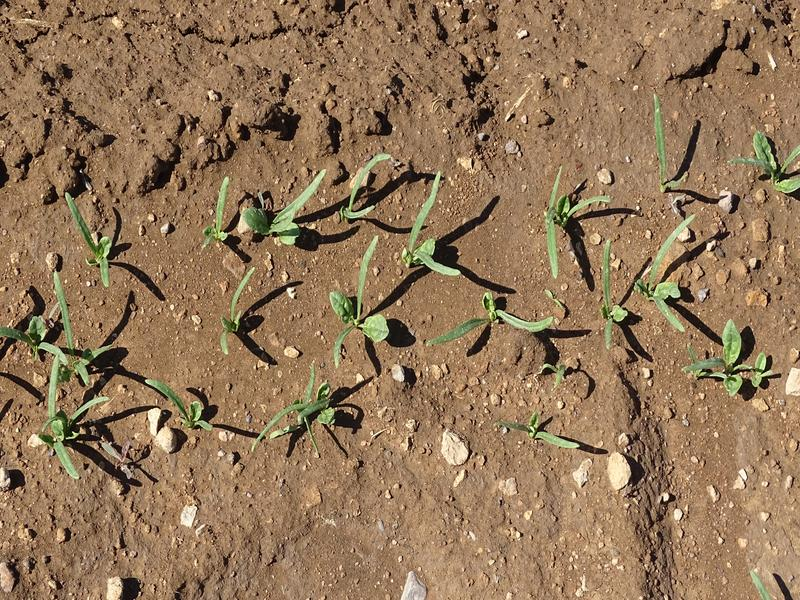Espinaca: (209, 182, 458, 466), (13, 195, 211, 480), (540, 172, 773, 396), (435, 296, 560, 353), (742, 134, 800, 193), (510, 416, 586, 450)
